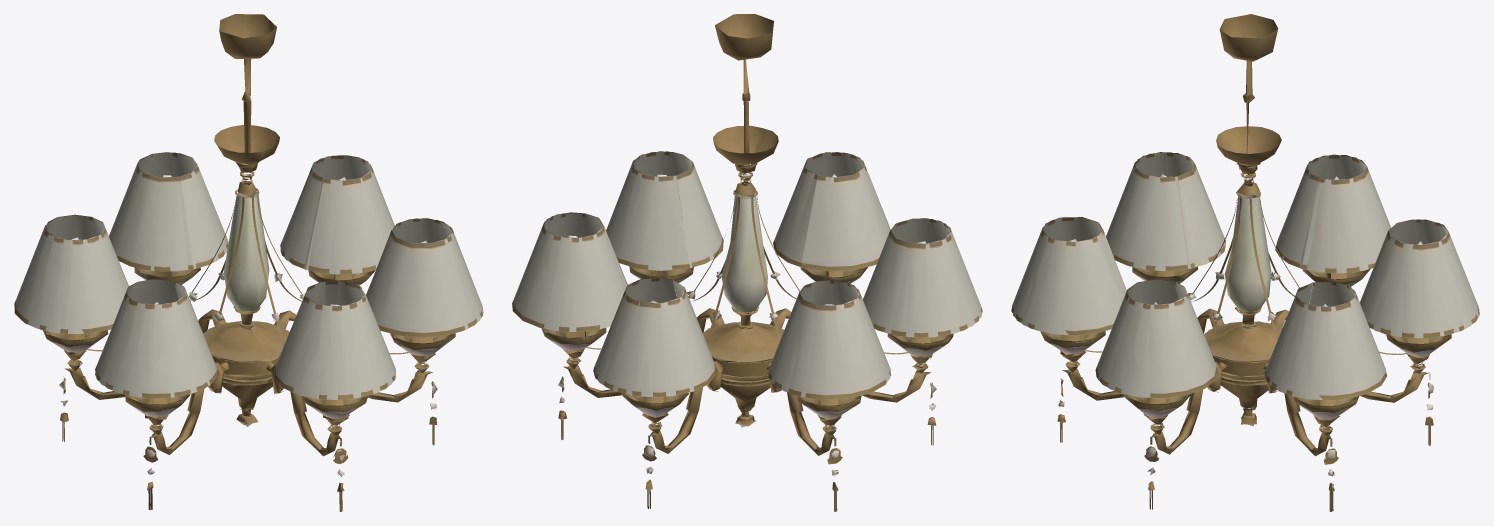
The model's file is chandelier.glb.
3 views of the same model, side by side, from view 1: azimuth 30°, elevation 25°; view 2: azimuth 150°, elevation 25°; view 3: azimuth 270°, elevation 25° (orthographic).
Visible parts, largest first — view 1: Chandelier_01; view 2: Chandelier_01; view 3: Chandelier_01.
Boxes of the visible parts, x1=… form: Chandelier_01: x1=14, y1=14, x2=483, y2=511; Chandelier_01: x1=512, y1=14, x2=982, y2=511; Chandelier_01: x1=1011, y1=14, x2=1479, y2=511.
Bounding box in the file's own units: 0.7466 × 0.7983 × 0.8159.
2 materials, 1 textured.
